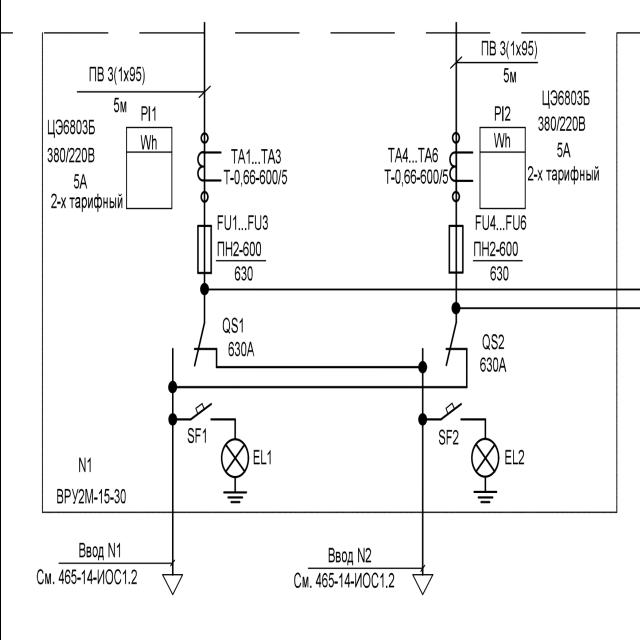-: (43, 118, 124, 214), (527, 88, 601, 184), (469, 237, 526, 283), (212, 238, 270, 282), (55, 485, 126, 507), (222, 168, 292, 190), (382, 167, 448, 185), (226, 337, 260, 359), (478, 354, 508, 376)
FU: (446, 222, 464, 276), (195, 222, 212, 278)
HL: (218, 436, 250, 480), (470, 438, 499, 480)
QF: (438, 399, 467, 425), (188, 401, 217, 426)
TT: (196, 146, 222, 186), (448, 146, 474, 186)
WH: (123, 123, 173, 215), (478, 124, 526, 210)
switch: (418, 319, 470, 366), (168, 322, 215, 368)
